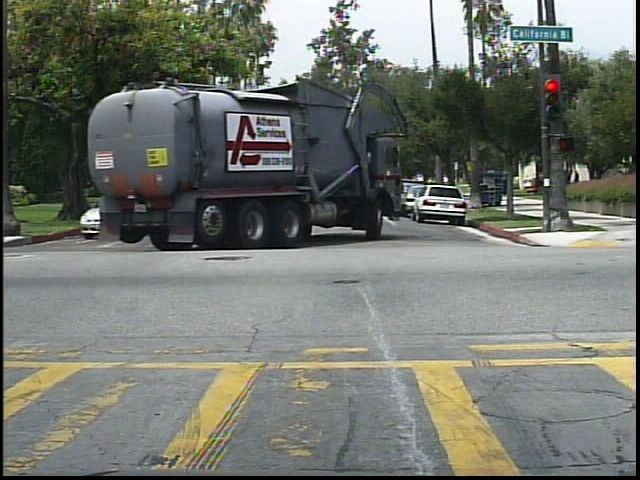person: (568, 165, 586, 196)
